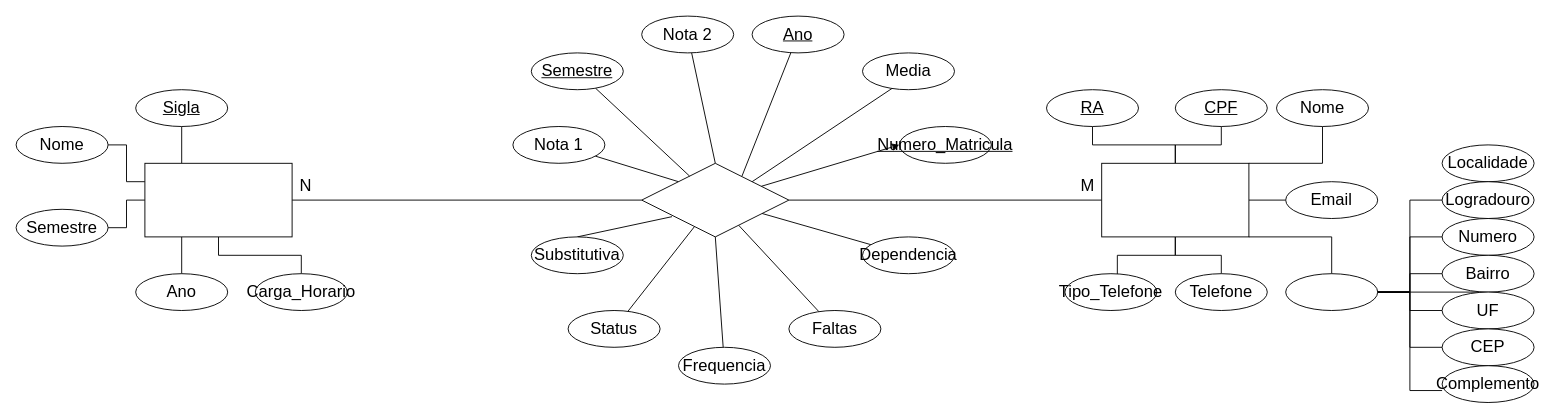
Image size: 1556x419. Some labels were removed from this diagram. Each missing label, with the box of its shape:
Aluno: (1101, 162, 1249, 237)
Disciplina: (144, 162, 292, 237)
Endereco: (1285, 273, 1378, 310)
Matricula: (641, 162, 789, 237)
